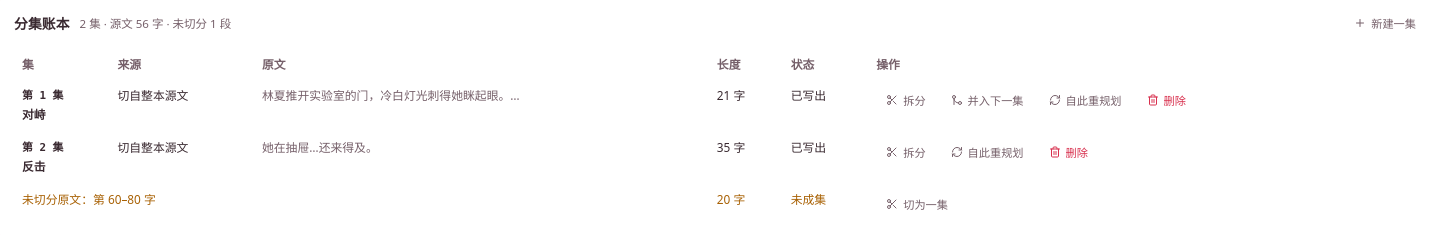
Test: EpisodeLedgerTools › shows the unsplit source and cuts it into an episode
Click the button "切为一集".
click(917, 204)  # box [876,190,958,218]
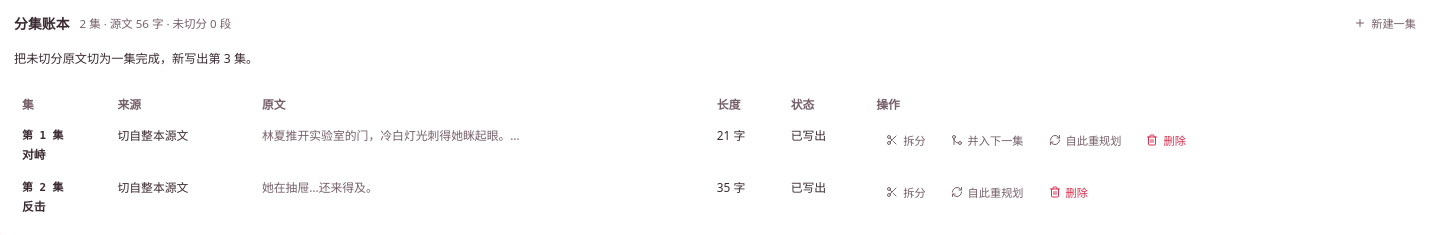
Expected: the text "新写出第 3 集" is shown, [14,50,258,67]
